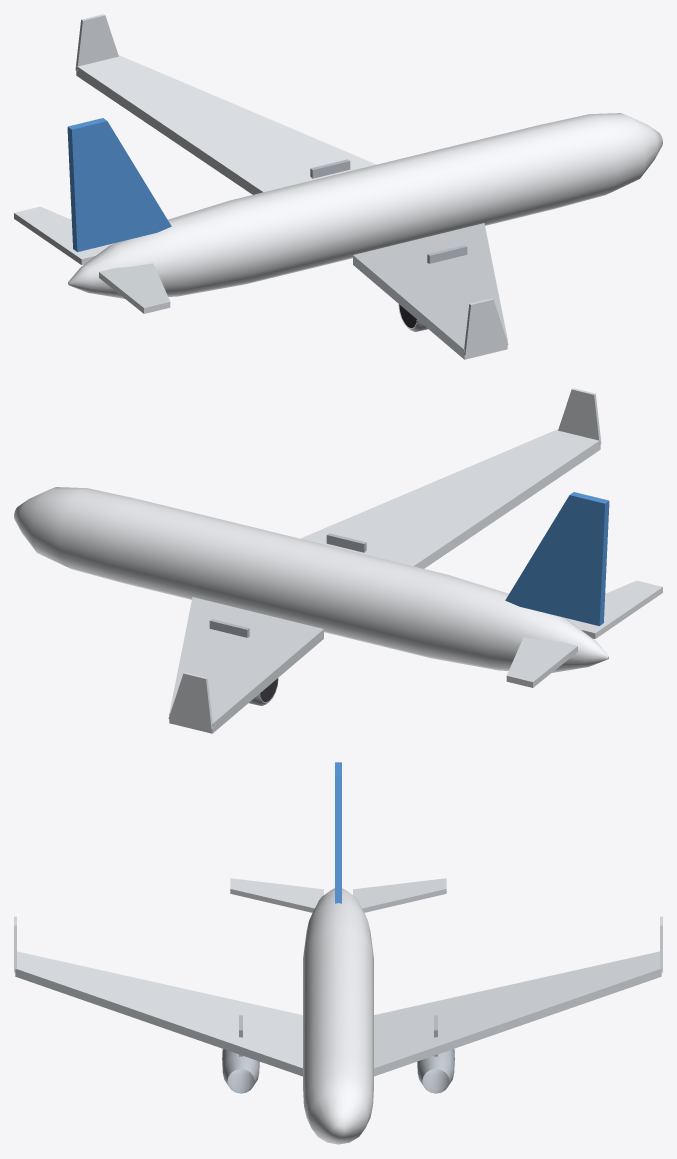
3 renders of one model, top to bottom at view 1: azimuth 30°, elevation 25°; view 2: azimuth 150°, elevation 25°; view 3: azimuth 270°, elevation 25°, orthographic. The views are drawn at different scales.
Visible parts, largest first — view 1: A318; view 2: A318; view 3: A318.
Part boxes in pixels (left/top/right/bottom): A318: left=14, top=14, right=662, bottom=359; A318: left=14, top=388, right=662, bottom=733; A318: left=14, top=762, right=662, bottom=1144.
Size of the model in its own units: 31.44 by 11.65 by 35.96.
